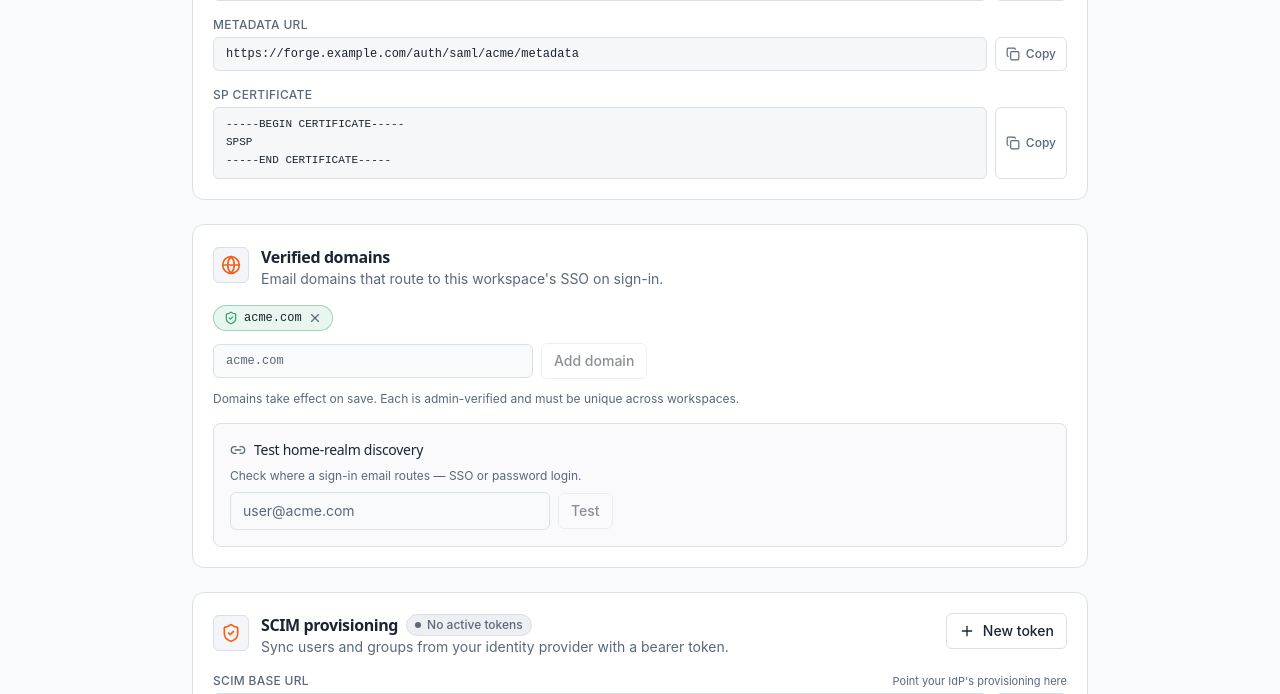
Test: SsoSettingsView › adds a login domain to the verified list
(page scrolled)
Type "beta.acme.io" into the field named "Add domain" at (373, 361), box [213,344,533,378]
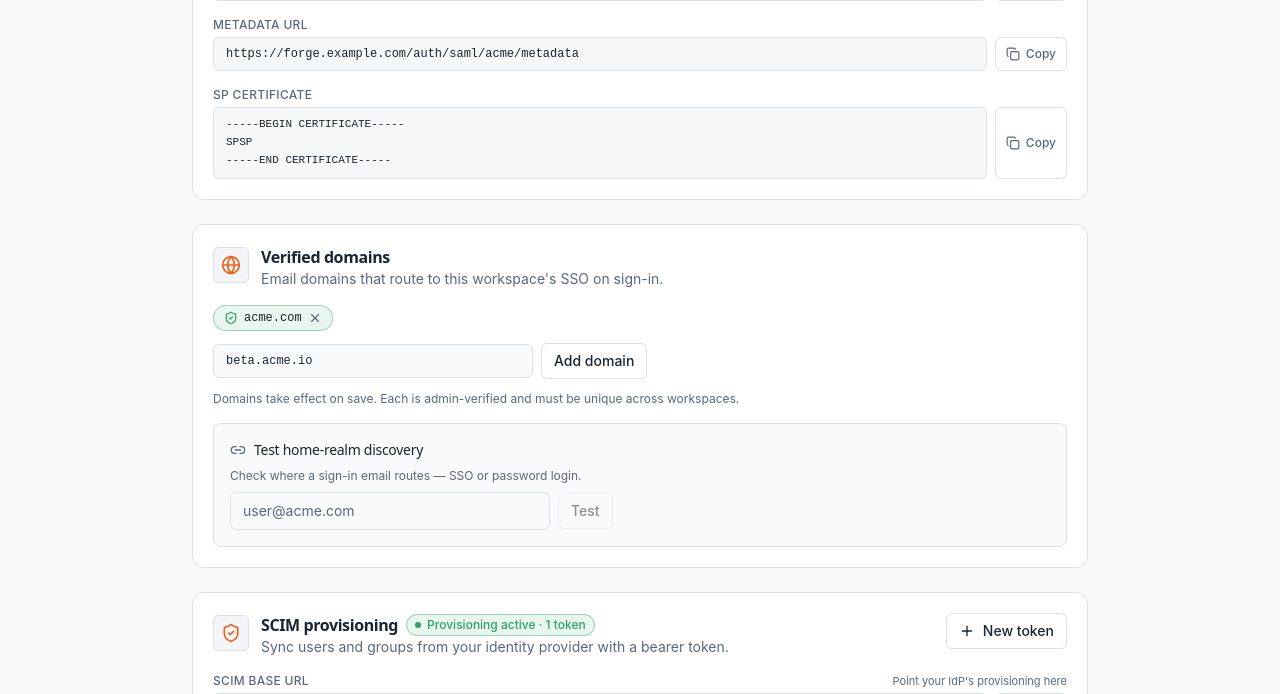
Click the button "Add domain" at (594, 361), box [541,343,647,379]
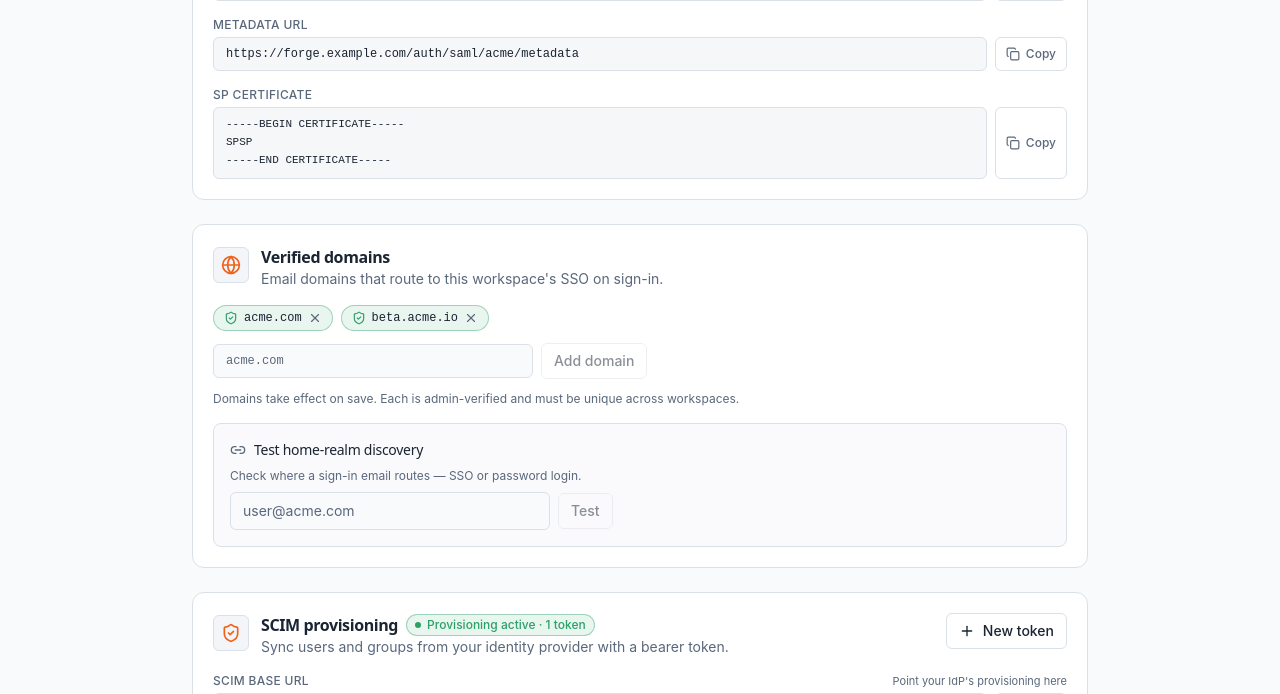
Expected: the text "beta.acme.io" is shown, [372,310,458,326]
